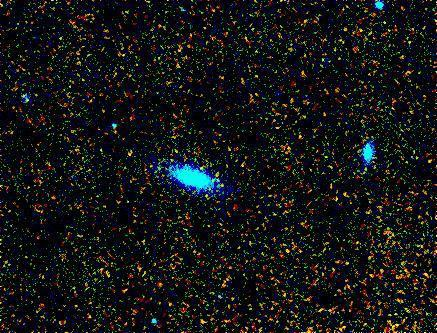star: (265, 135, 295, 165)
